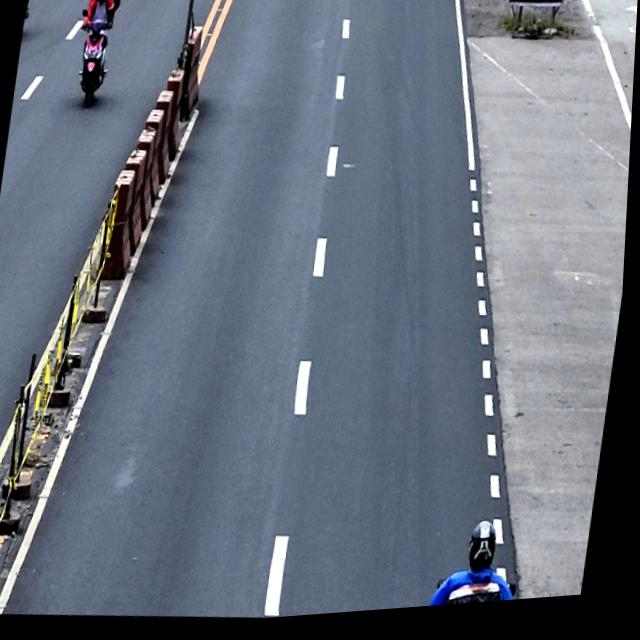Motorcycle: (70, 7, 117, 112)
